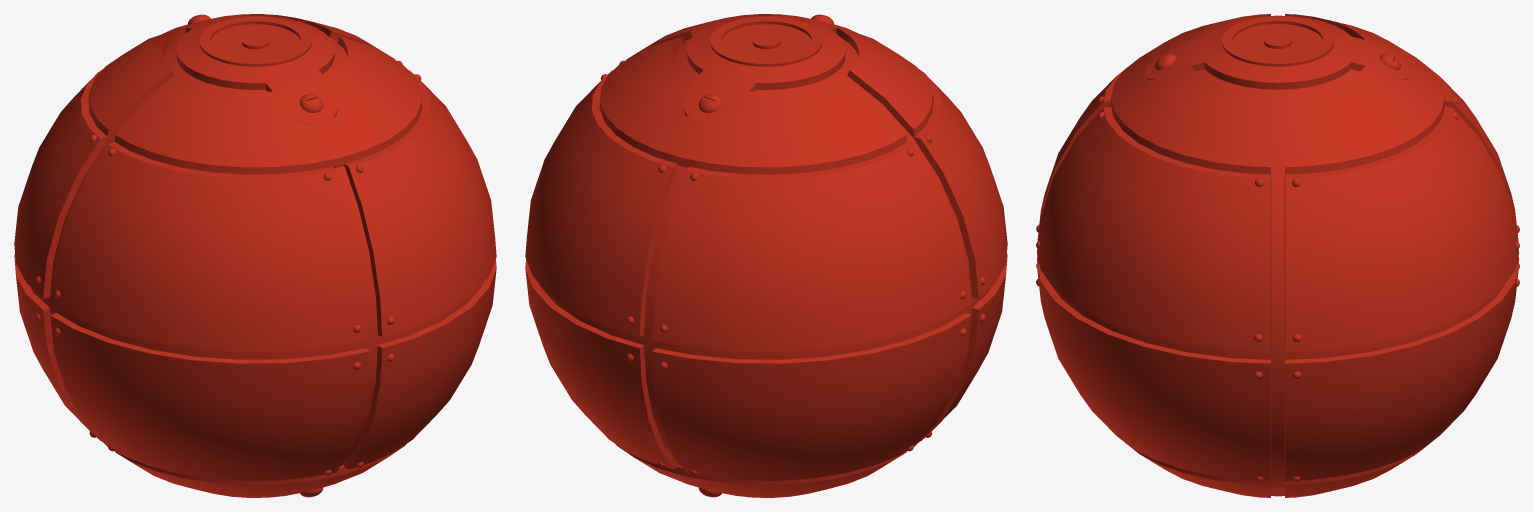
Rendered from obj_survivalobject_triggerball_15x.fbx.
3 renders of one model, left to right at view 1: azimuth 30°, elevation 25°; view 2: azimuth 150°, elevation 25°; view 3: azimuth 270°, elevation 25°, orthographic.
Visible parts, largest first — view 1: obj_survivalobject_triggerball_pose0; view 2: obj_survivalobject_triggerball_pose0; view 3: obj_survivalobject_triggerball_pose0.
Boxes of the visible parts, <box> form: obj_survivalobject_triggerball_pose0: <box>14,14,496,497</box>; obj_survivalobject_triggerball_pose0: <box>525,14,1007,497</box>; obj_survivalobject_triggerball_pose0: <box>1036,14,1519,497</box>.
Size of the model in its own units: 15.08 by 14.92 by 15.08.
